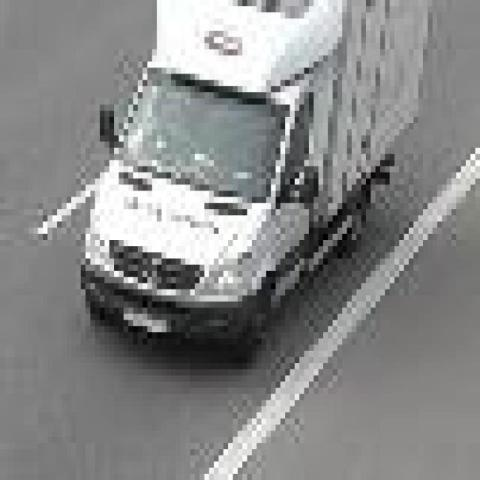van: (85, 0, 432, 369)
